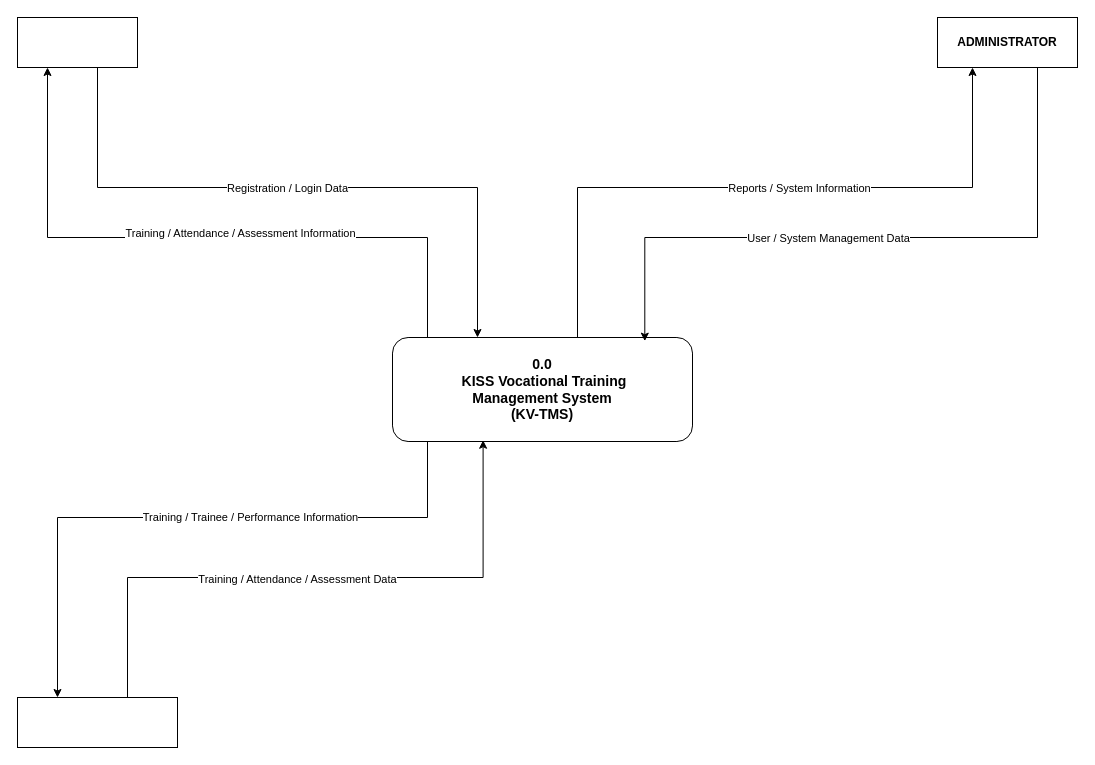
Image size: 1095x765. Some labels were removed from this diagram. Each missing label, with the box of its shape:
TRAINEE: (16, 16, 138, 68)
TRAINER / FACULTY: (16, 696, 178, 748)
